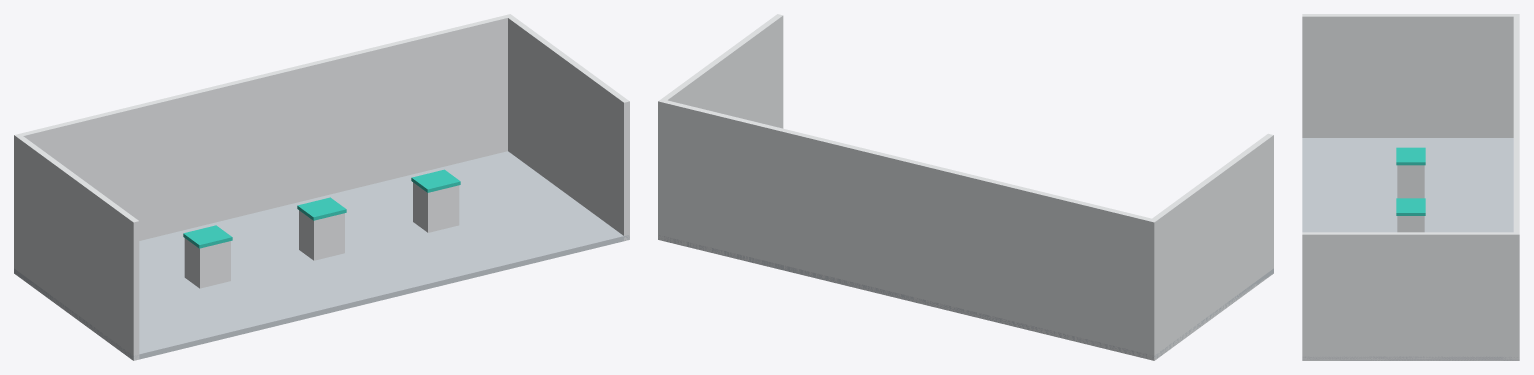
3 renders of one model, left to right at view 1: azimuth 30°, elevation 25°; view 2: azimuth 150°, elevation 25°; view 3: azimuth 270°, elevation 25°, orthographic. The views are drawn at different scales.
Parts seen in each view (by area): view 1: Exhibition Booth Concept; view 2: Exhibition Booth Concept; view 3: Exhibition Booth Concept.
Part boxes in pixels (x1,y1,x2,y2): Exhibition Booth Concept: [14, 14, 629, 360]; Exhibition Booth Concept: [658, 14, 1273, 360]; Exhibition Booth Concept: [1302, 14, 1519, 360].
Size of the model in its own units: 12 by 3.2 by 5.
